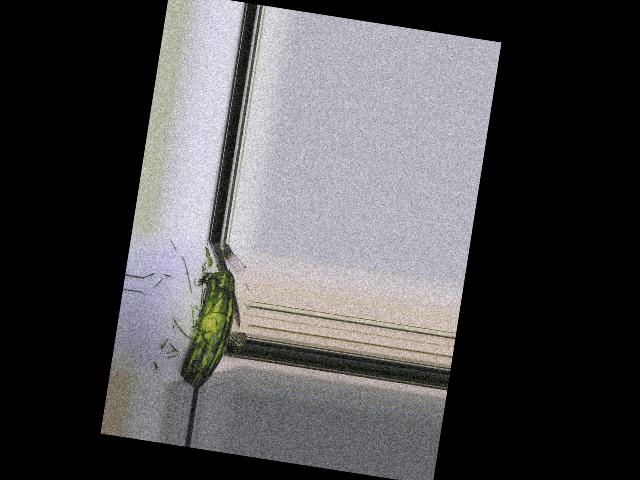cucumber: (178, 265, 239, 391)
